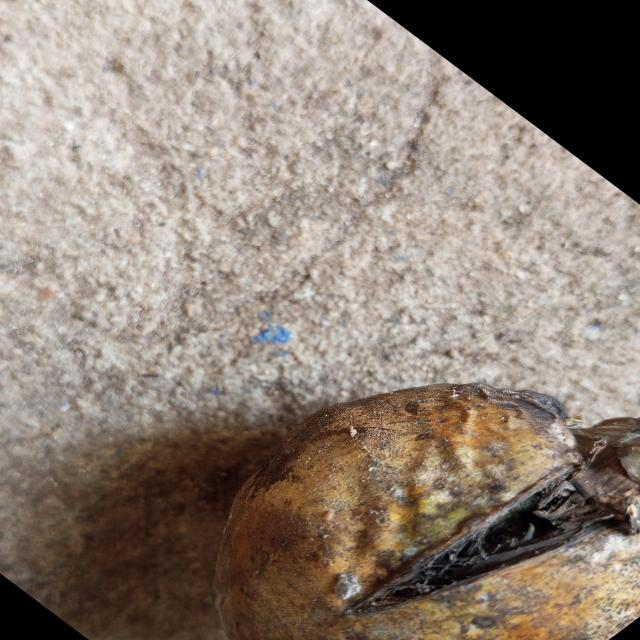damaged: (214, 384, 640, 640)
